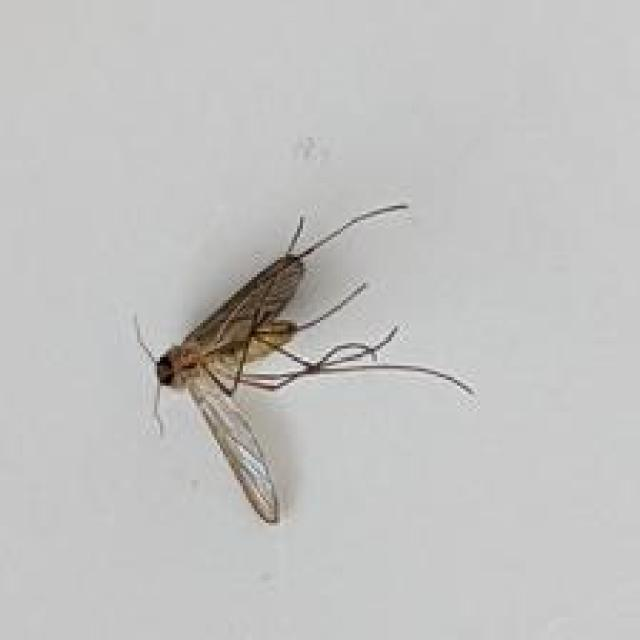Culex: (133, 200, 476, 526)
